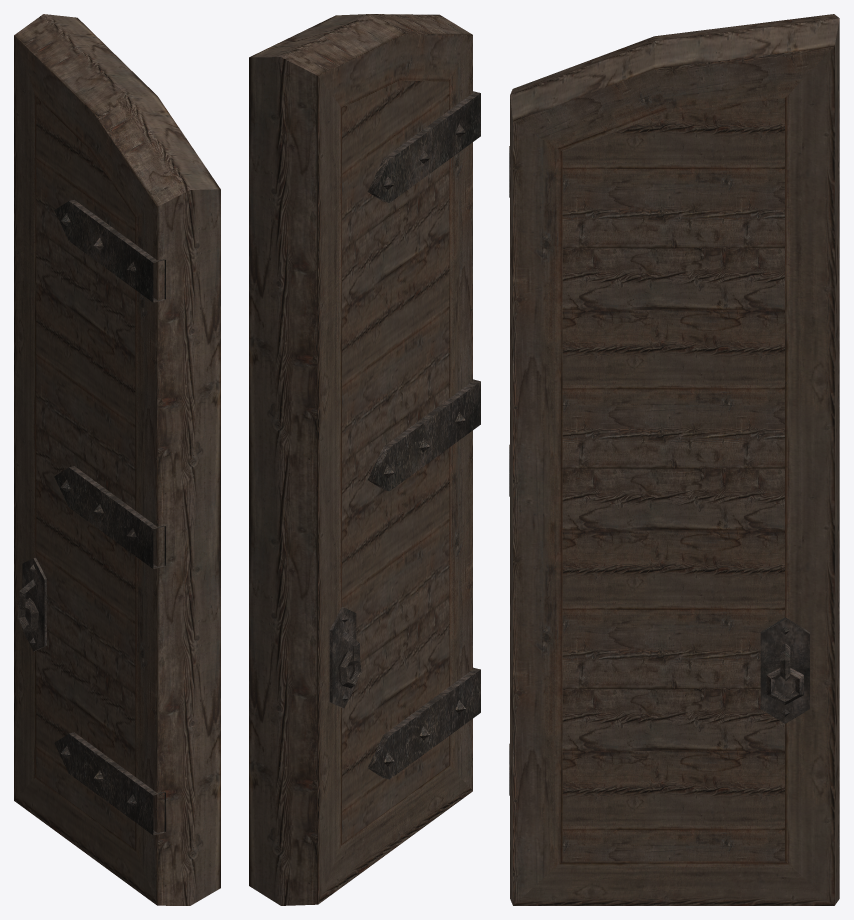
File: DoorLeft.FBX
3 renders of one model, left to right at view 1: azimuth 30°, elevation 25°; view 2: azimuth 150°, elevation 25°; view 3: azimuth 270°, elevation 25°, orthographic. The views are drawn at different scales.
Visible parts, largest first — view 1: DoorLeft; view 2: DoorLeft; view 3: DoorLeft.
Part boxes in pixels (x1,y1,x2,y2): DoorLeft: (14,14,220,905); DoorLeft: (249,14,480,905); DoorLeft: (509,14,839,905).
Bounding box in the file's own units: 77.52 × 589 × 201.
